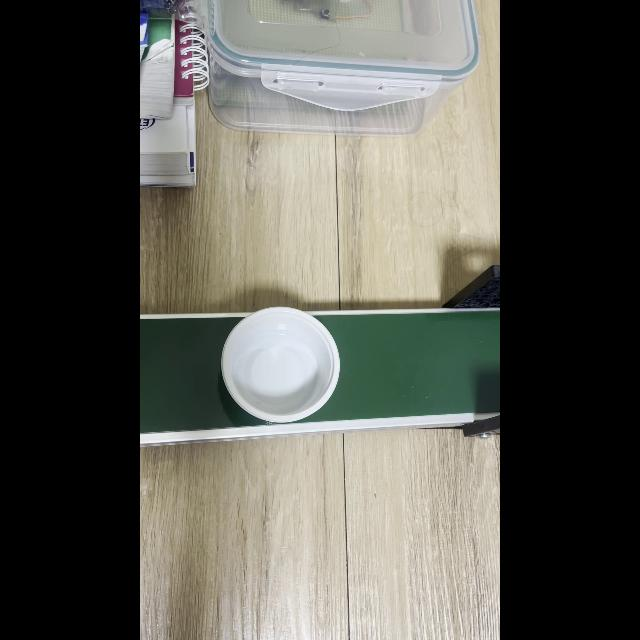clean: (230, 318, 328, 416)
